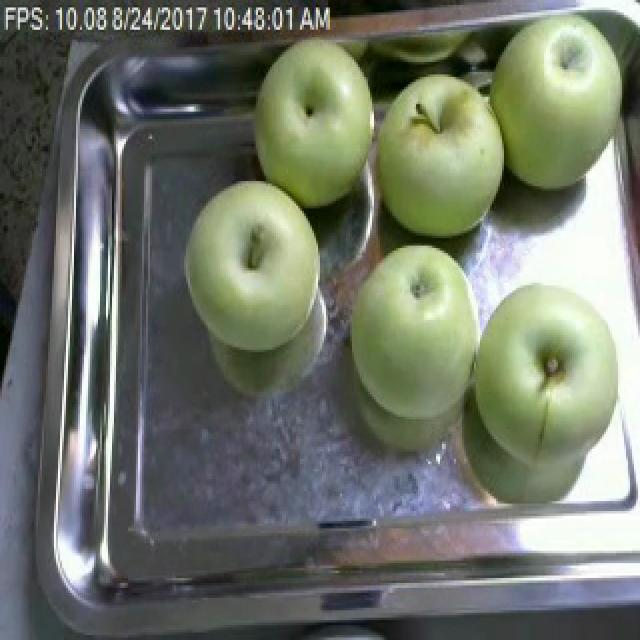50-_ripeness: (468, 284, 618, 466), (184, 178, 320, 357), (494, 4, 619, 196), (378, 64, 506, 240), (347, 244, 472, 418), (254, 42, 377, 202)
